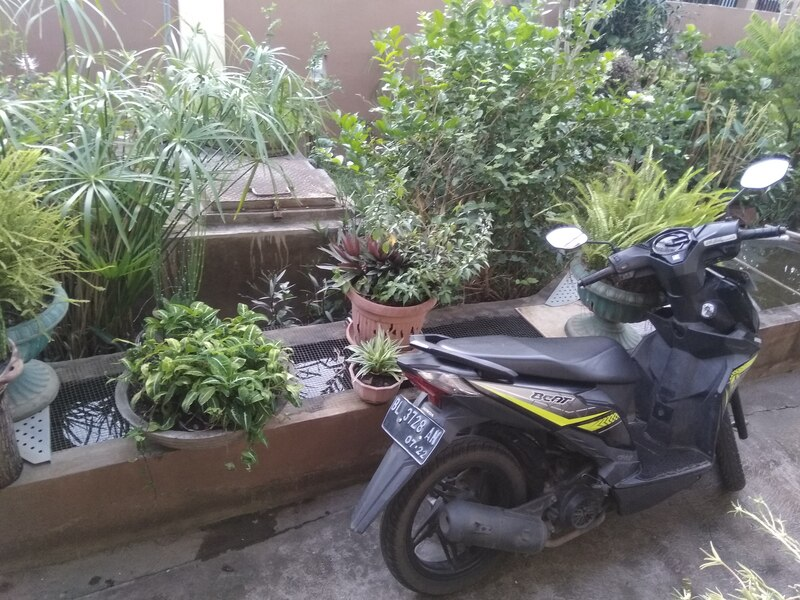motorcycle: (345, 147, 793, 600)
